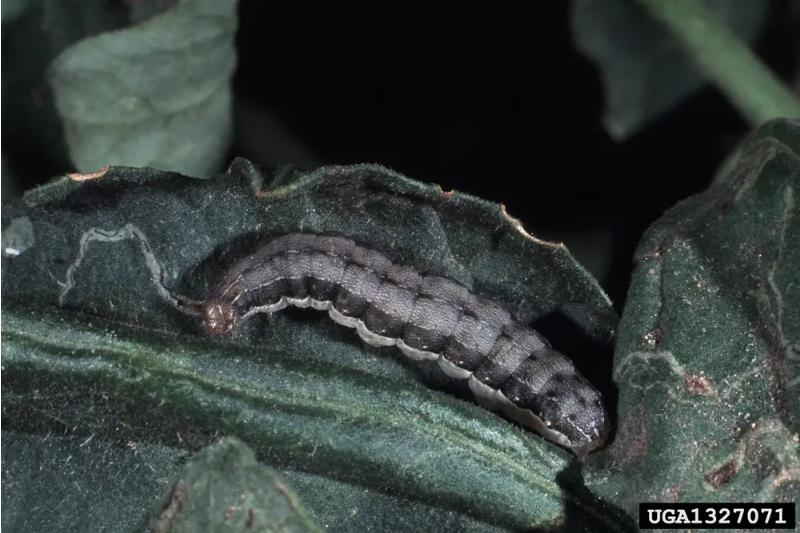fall-armyworm: (203, 231, 612, 461)
